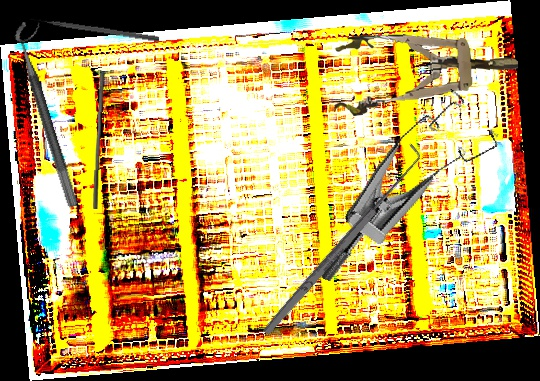Fixation Ring: (11, 17, 94, 209)
Hook Surgical: (254, 143, 428, 338)
Pusher: (29, 14, 160, 43), (92, 72, 106, 210)
Speculum: (316, 70, 513, 322), (330, 24, 521, 118)
